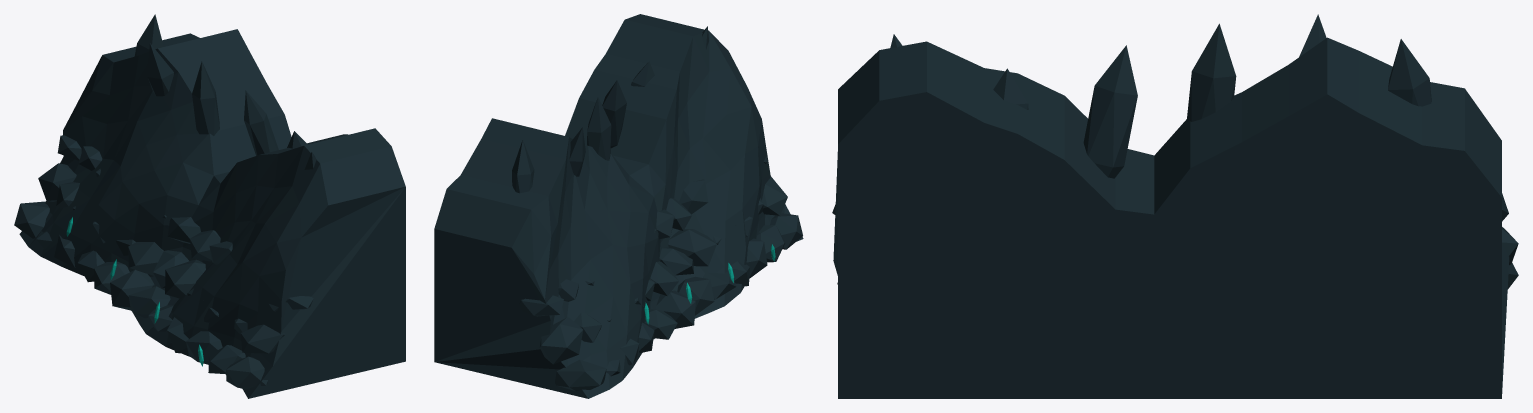
Rendered from distant_cliff_wall.obj.
3 renders of one model, left to right at view 1: azimuth 30°, elevation 25°; view 2: azimuth 150°, elevation 25°; view 3: azimuth 270°, elevation 25°, orthographic. The views are drawn at different scales.
Parts seen in each view (by area): view 1: distant_cliff_wall; view 2: distant_cliff_wall; view 3: distant_cliff_wall.
Boxes of the visible parts, x1,y1,x2,y2 form: distant_cliff_wall: (14, 14, 405, 398); distant_cliff_wall: (434, 14, 803, 398); distant_cliff_wall: (832, 14, 1518, 398).
Size of the model in its own units: 129 by 168 by 313.
Materials: 1 (1 with a texture image).
